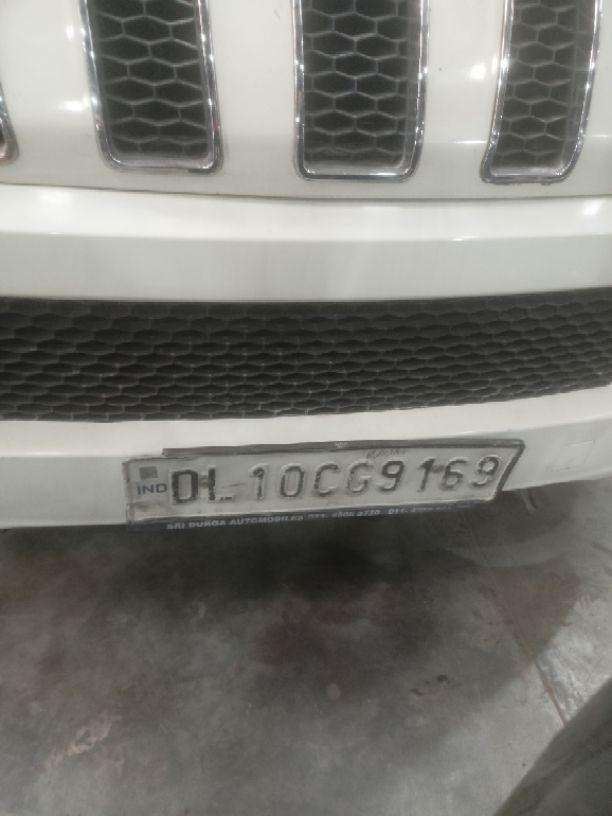license_plate: (1, 0, 610, 532), (120, 436, 525, 528)
